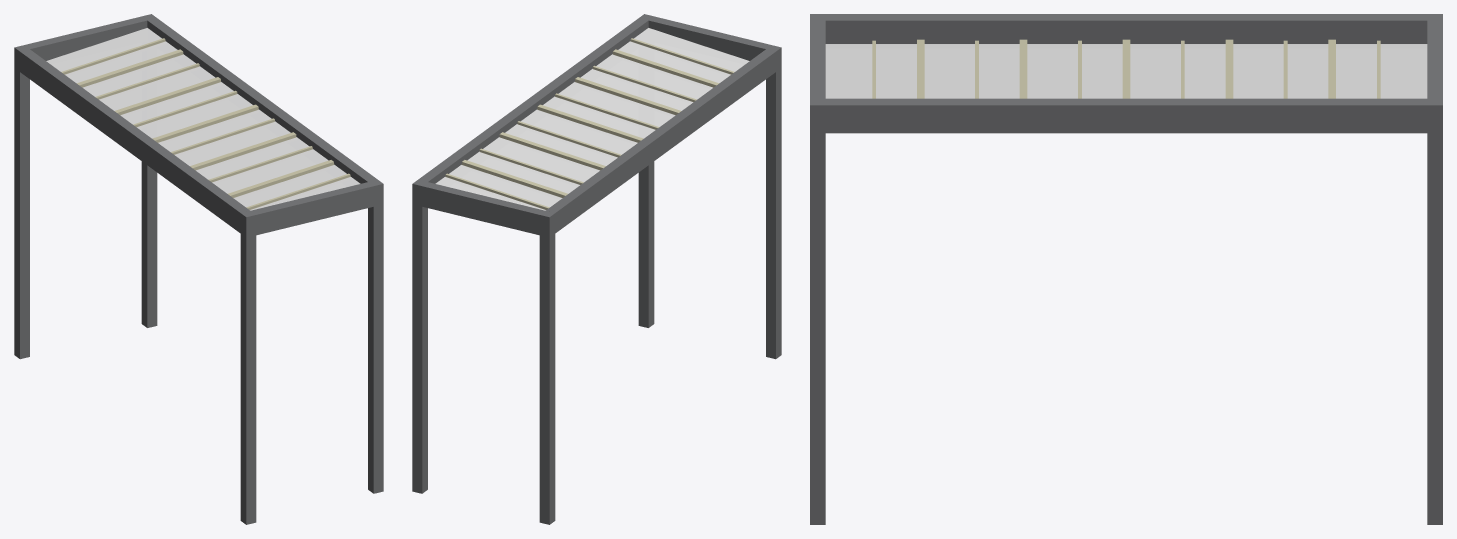
File: hyr-single_h30-w13-l40_matlightgrey.fbx
The picture shows the model from 3 angles, left to right: view 1: azimuth 30°, elevation 25°; view 2: azimuth 150°, elevation 25°; view 3: azimuth 270°, elevation 25°; orthographic projection. The views are drawn at different scales.
Parts seen in each view (by area): view 1: hyr-single_h30-w13-l40_mat-r-grey; view 2: hyr-single_h30-w13-l40_mat-r-grey; view 3: hyr-single_h30-w13-l40_mat-r-grey.
Part boxes in pixels (x1=…): hyr-single_h30-w13-l40_mat-r-grey: x1=14, y1=14, x2=383, y2=524; hyr-single_h30-w13-l40_mat-r-grey: x1=412, y1=14, x2=781, y2=524; hyr-single_h30-w13-l40_mat-r-grey: x1=810, y1=14, x2=1442, y2=524.
Size of the model in its own units: 140 by 300 by 410.
3 materials, 2 textured.
